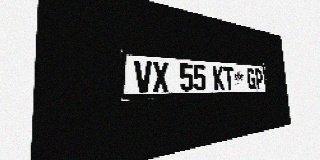5: (179, 63, 194, 91), (193, 64, 206, 91)
G: (246, 68, 256, 89)
K: (213, 66, 225, 90)
P: (254, 69, 263, 89)
T: (223, 66, 234, 90)
V: (134, 60, 152, 93)
X: (152, 61, 169, 92)
